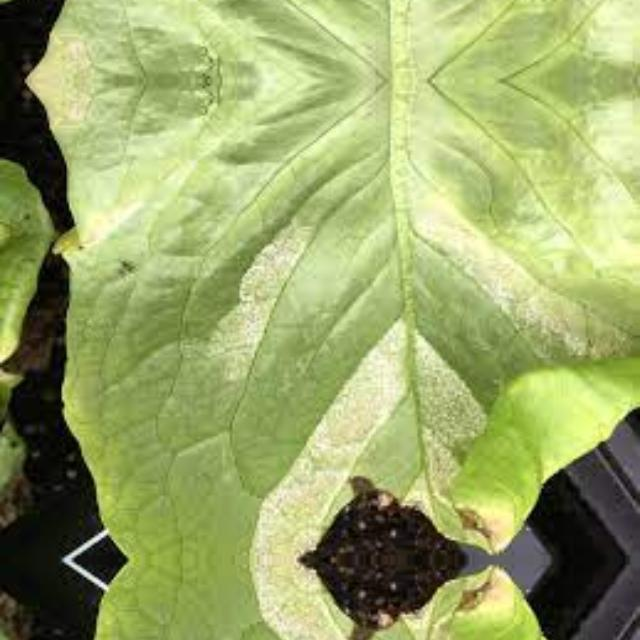Downy_mildew: (101, 103, 614, 554), (100, 563, 613, 640), (100, 0, 613, 56)
